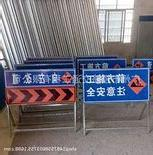sign: (4, 71, 76, 103), (82, 70, 150, 101), (76, 59, 127, 71)
